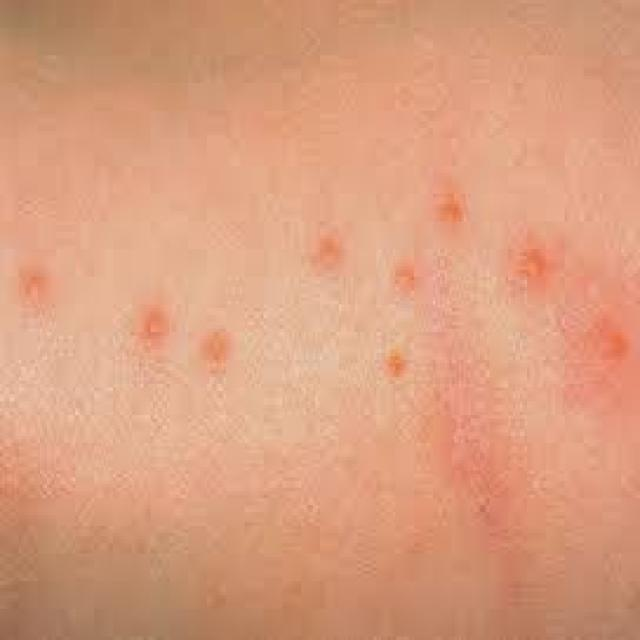kan emici bocekler: (129, 295, 181, 372), (22, 264, 69, 349), (201, 323, 244, 404), (590, 315, 634, 386), (367, 336, 417, 392), (432, 174, 475, 237), (517, 241, 555, 297), (383, 256, 420, 305), (316, 228, 342, 285)
